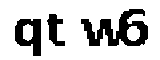6: (120, 6, 148, 50)
q: (12, 18, 41, 60)
t: (43, 10, 67, 48)
w: (77, 16, 120, 52)
